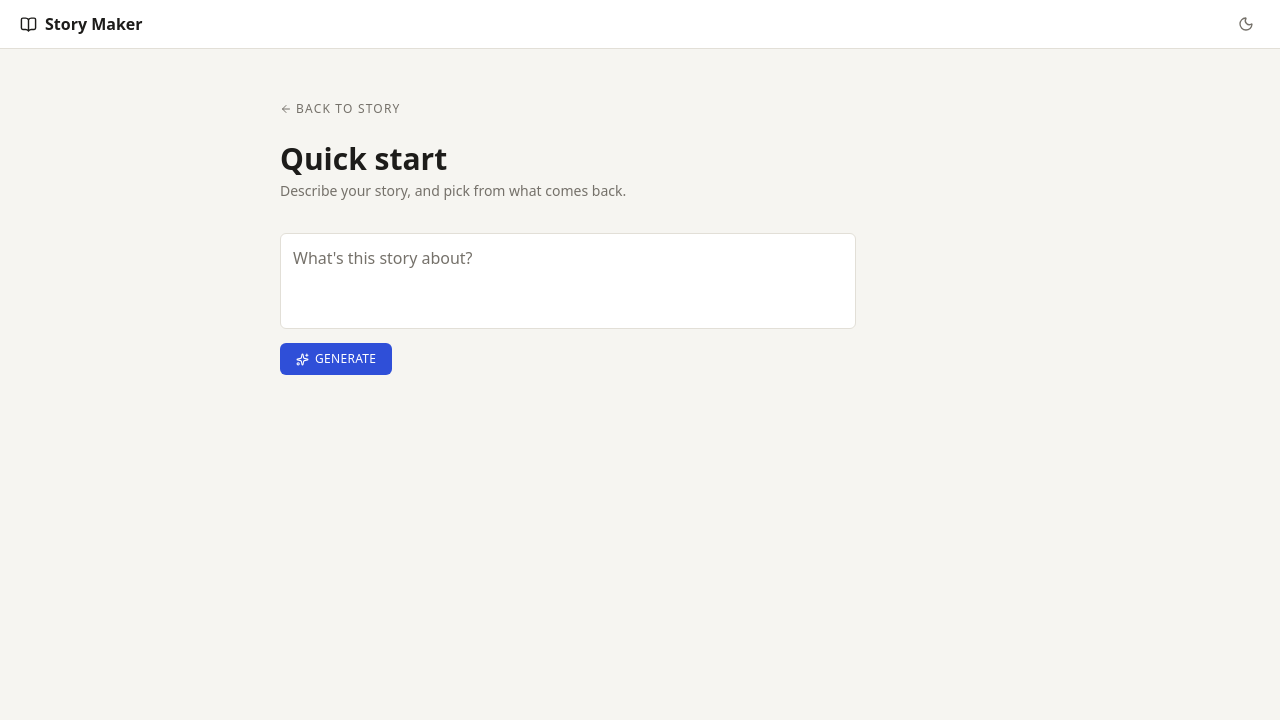
Test case: QuickStartPage › shows a notice and still offers blank cards when the model returns zero markers
Type "space smugglers" into the text box with placeholder "What's this story about?". click: (568, 281)
box: [280,233,856,329]
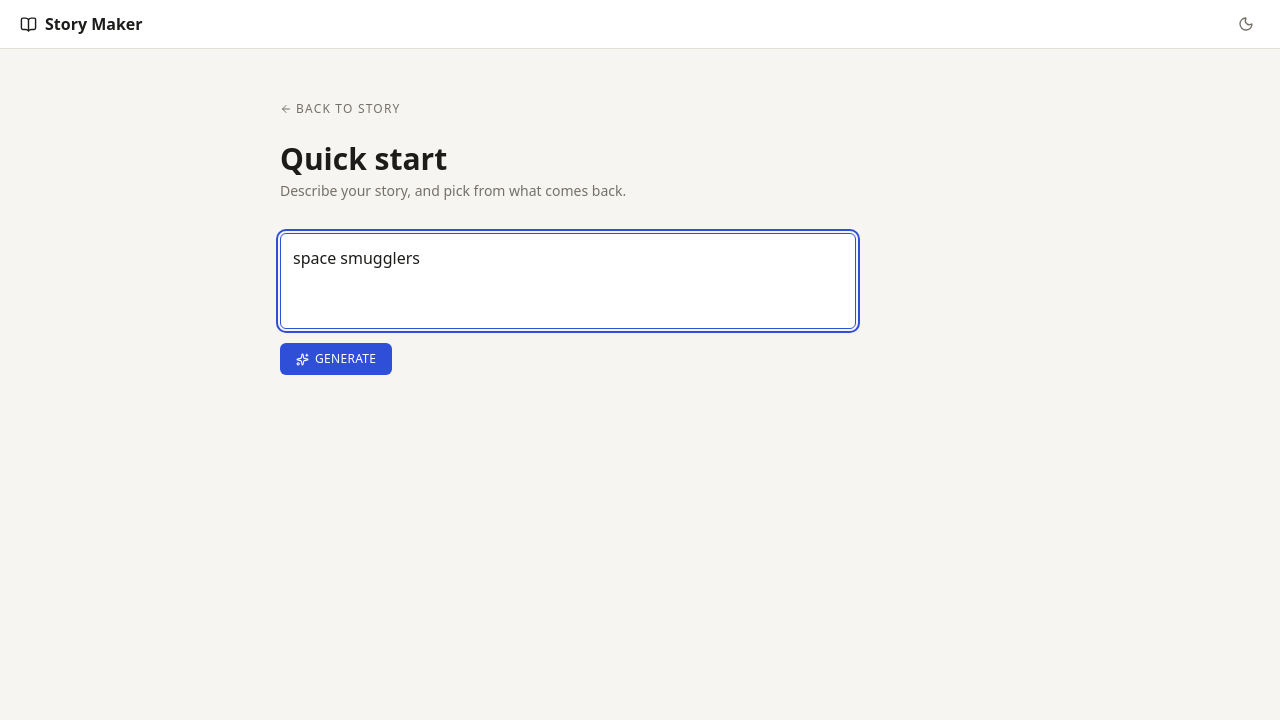
Click the button "Generate". click: (336, 359)
box: [280,343,392,375]
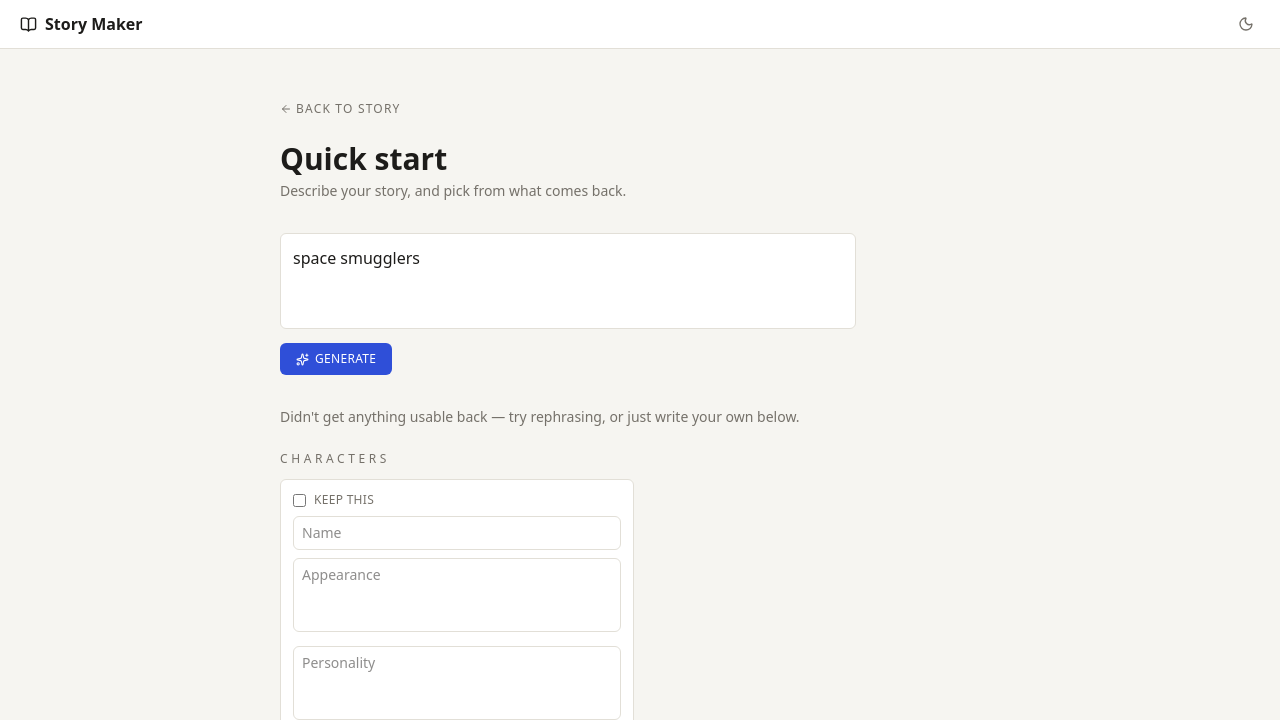
Result: the text "Didn't get anything usable back" is shown at [280,407,800,426]
Result: the number of checkboxes is 3
